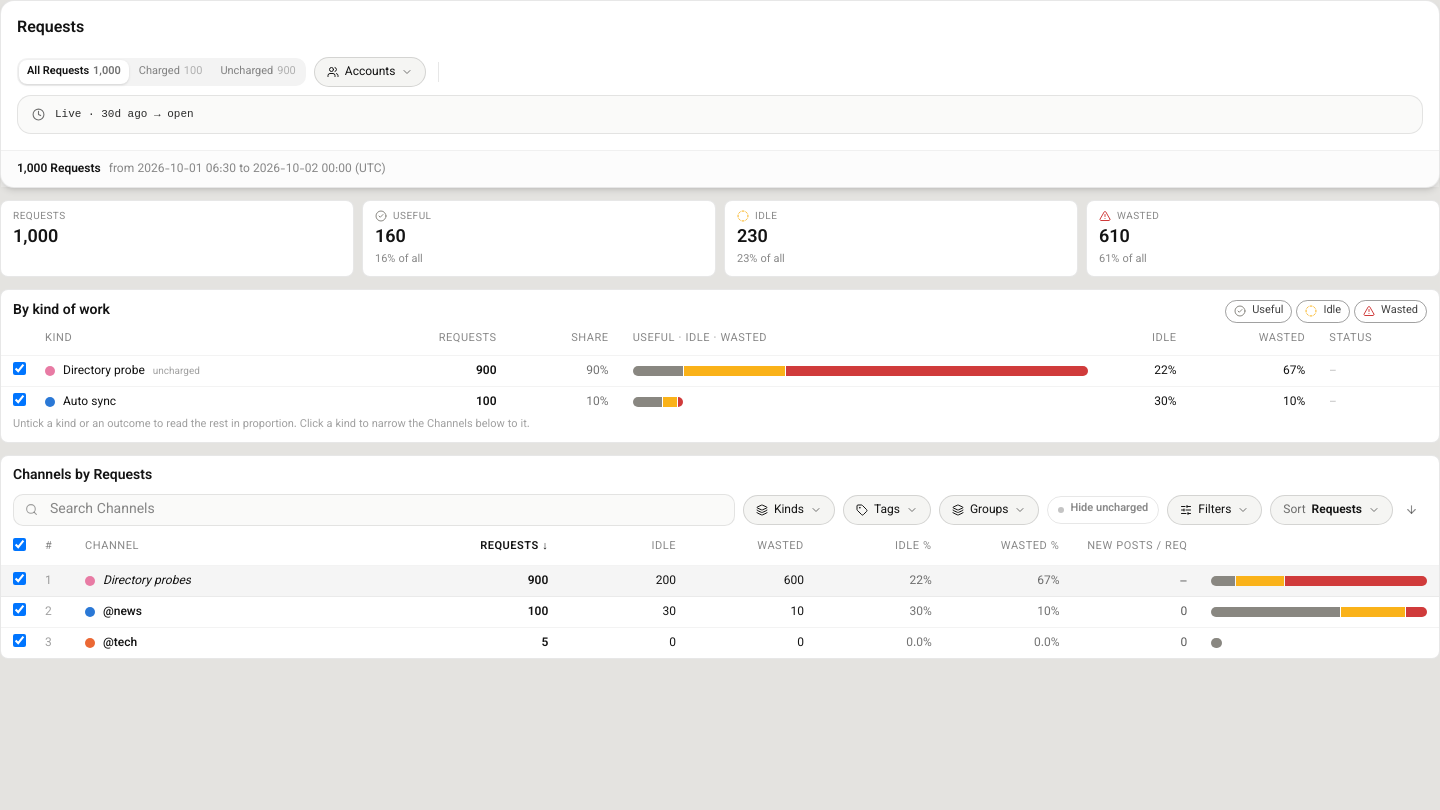
Test: RequestsView › an unselected Channel leaves the tab; the footer counts it and Select all brings it back
Click the checkbox named "Select @news" at (20, 609), box [13,602,26,616]
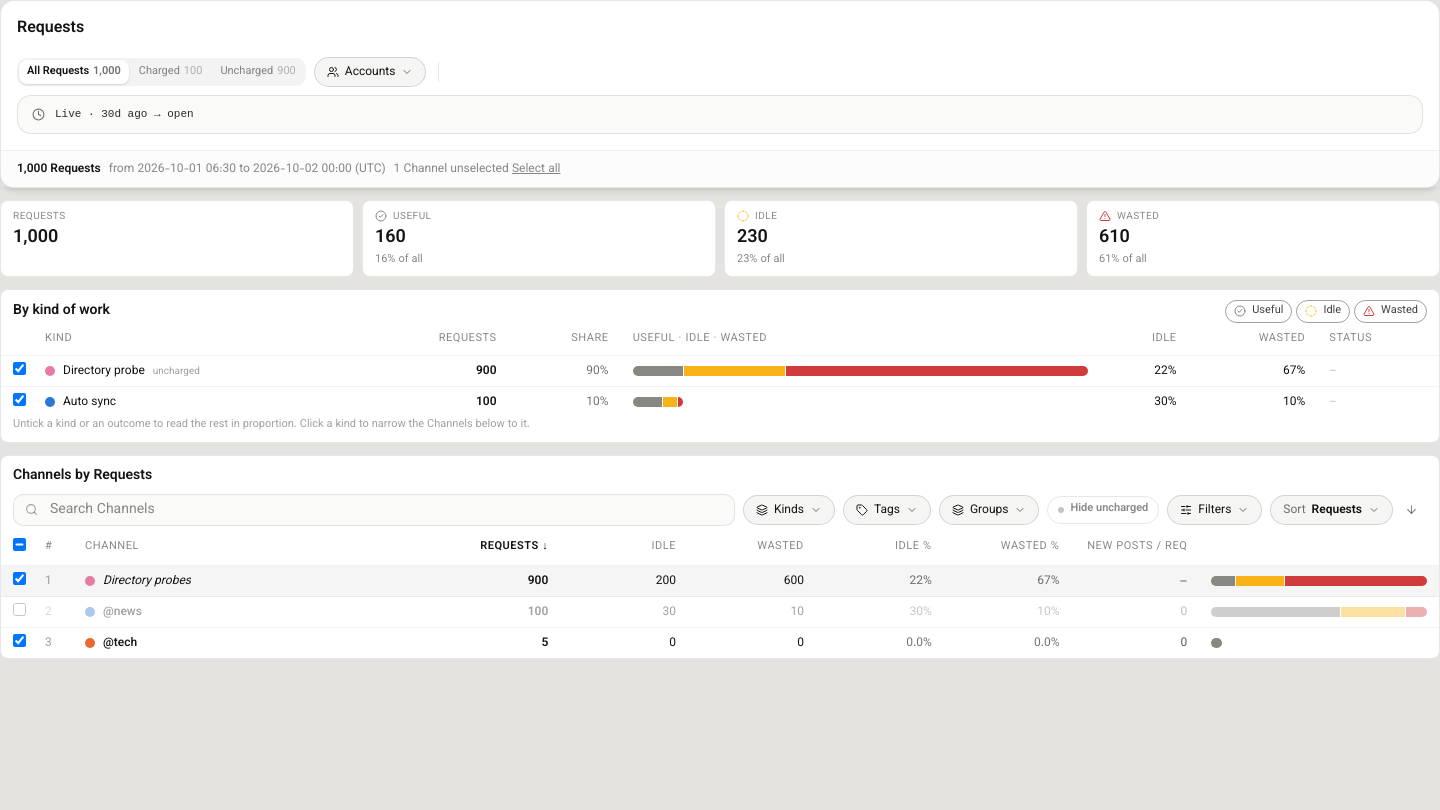
Expected: the element with test id "requests-left-out" reads "1 Channel unselected Select all", [394,160,560,176]
Click the button "Select all" at (536, 168), box [512,160,560,176]
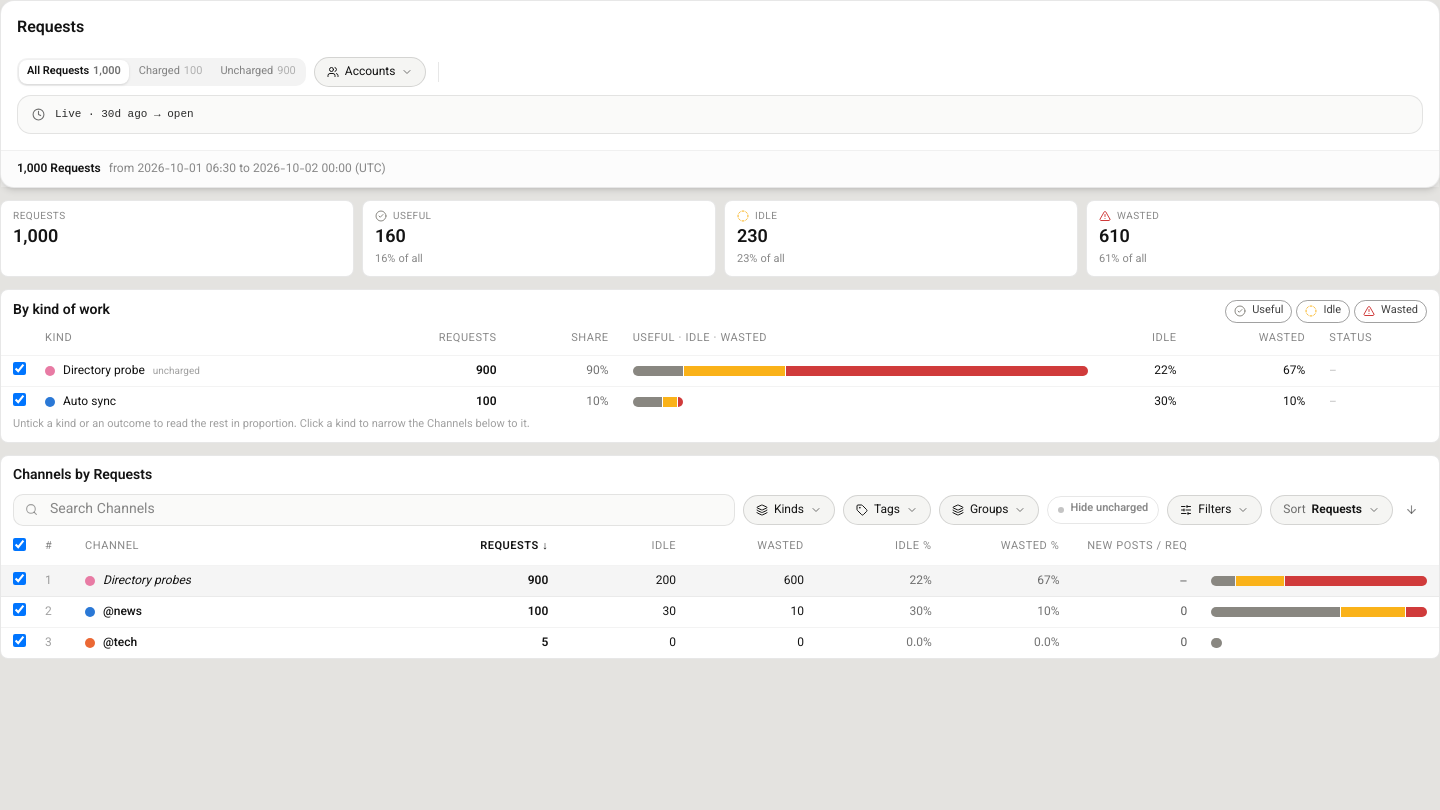
Expected: the element with test id "requests-left-out" is gone
